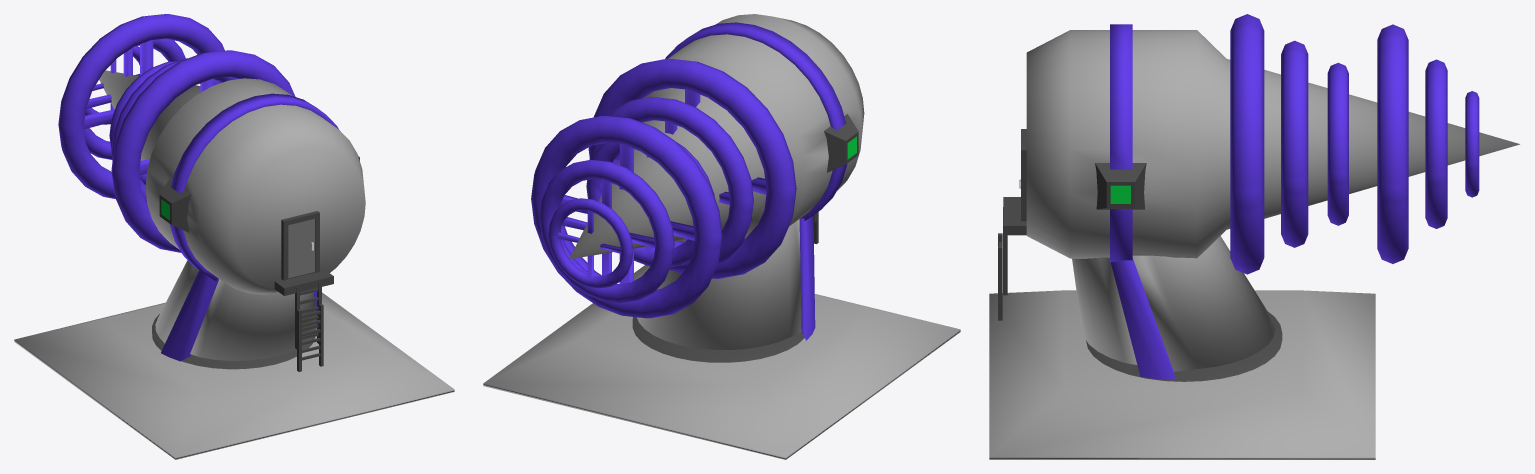
The model's file is ray.glb.
3 renders of one model, left to right at view 1: azimuth 30°, elevation 25°; view 2: azimuth 150°, elevation 25°; view 3: azimuth 270°, elevation 25°, orthographic. The views are drawn at different scales.
Parts seen in each view (by area): view 1: Platform, Turret, Torus, Torus.003, Pillar, Stripes, Tripes, Torus.004, Door, HoldingCylinder, DoorFrame, Cube.014 (+5 smaller); view 2: Platform, Turret, Torus.003, Torus, Pillar, Torus.004, Torus.001, Stripes, Torus.005, HoldingCylinder, Tripes, Torus.002 (+1 smaller); view 3: Platform, Turret, Pillar, Torus, Torus.003, Torus.001, Stripes, Torus.004, Tripes, Torus.002, HoldingCylinder, LightFrame (+3 smaller).
Part boxes in pixels (left/top/right/bottom): Platform: left=14, top=292, right=454, bottom=459; Turret: left=99, top=70, right=365, bottom=294; Torus: left=111, top=50, right=295, bottom=252; Torus.003: left=58, top=14, right=224, bottom=198; Pillar: left=155, top=260, right=316, bottom=360; Stripes: left=170, top=93, right=338, bottom=281; Tripes: left=161, top=270, right=316, bottom=361; Torus.004: left=84, top=38, right=185, bottom=159; Door: left=287, top=219, right=315, bottom=280; HoldingCylinder: left=152, top=314, right=315, bottom=369; DoorFrame: left=281, top=211, right=319, bottom=280; Cube.014: left=297, top=304, right=323, bottom=371; Platform: left=483, top=265, right=960, bottom=459; Turret: left=569, top=14, right=864, bottom=259; Torus.003: left=531, top=116, right=722, bottom=318; Torus: left=588, top=59, right=796, bottom=278; Pillar: left=637, top=219, right=801, bottom=350; Torus.004: left=539, top=160, right=674, bottom=303; Torus.001: left=589, top=97, right=753, bottom=271; Stripes: left=665, top=22, right=847, bottom=220; Torus.005: left=548, top=198, right=633, bottom=288; HoldingCylinder: left=632, top=317, right=804, bottom=362; Tripes: left=799, top=216, right=815, bottom=340; Torus.002: left=586, top=142, right=714, bottom=267; Platform: left=989, top=290, right=1375, bottom=459; Turret: left=1026, top=30, right=1519, bottom=258; Pillar: left=1072, top=236, right=1275, bottom=371; Torus: left=1230, top=14, right=1264, bottom=274; Torus.003: left=1377, top=24, right=1408, bottom=263; Torus.001: left=1281, top=40, right=1308, bottom=247; Stripes: left=1110, top=24, right=1132, bottom=262; Torus.004: left=1425, top=59, right=1447, bottom=228; Tripes: left=1111, top=258, right=1175, bottom=379; Torus.002: left=1327, top=62, right=1348, bottom=225; HoldingCylinder: left=1086, top=312, right=1282, bottom=381; LightFrame: left=1095, top=163, right=1146, bottom=209.
Bounding box in the file's own units: 6.74 × 6.81 × 9.28.
